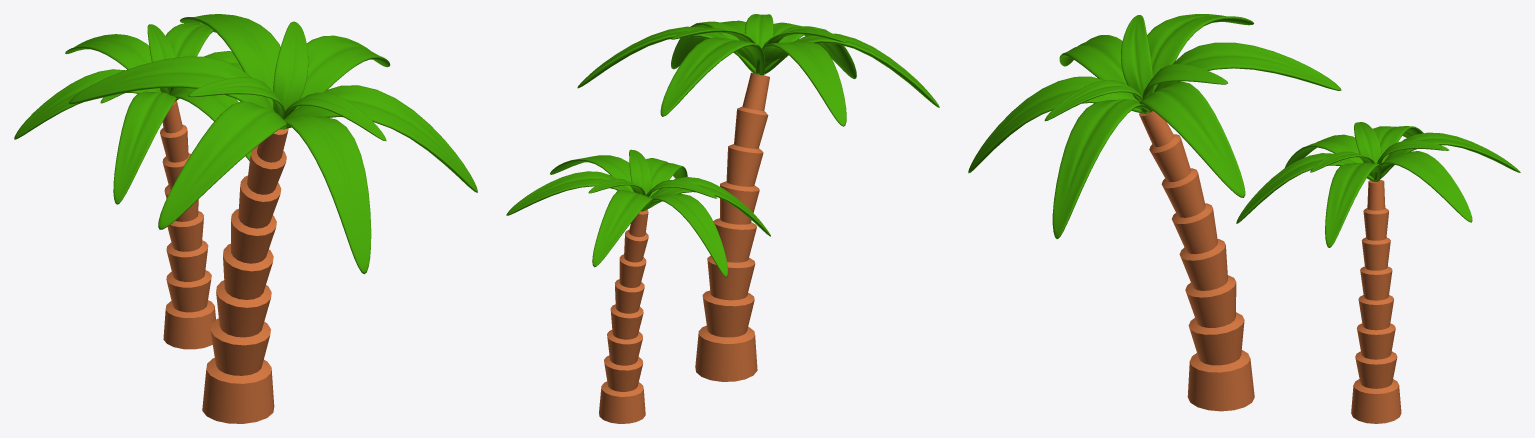
Rendered from palm-tree.fbx.
3 renders of one model, left to right at view 1: azimuth 30°, elevation 25°; view 2: azimuth 150°, elevation 25°; view 3: azimuth 270°, elevation 25°, orthographic. The views are drawn at different scales.
Parts seen in each view (by area): view 1: leaf-big, tree-big, leaf, tree; view 2: leaf-big, tree-big, leaf, tree; view 3: leaf-big, tree-big, leaf, tree.
Part boxes in pixels (x1,y1,x2,y2): leaf-big: (68, 14, 477, 274); tree-big: (202, 128, 288, 423); leaf: (14, 23, 250, 204); tree: (160, 100, 215, 349); leaf-big: (577, 14, 939, 126); tree-big: (695, 72, 769, 381); leaf: (506, 149, 770, 277); tree: (599, 209, 648, 423); leaf-big: (968, 14, 1341, 238); tree-big: (1139, 110, 1254, 411); leaf: (1236, 122, 1520, 247); tree: (1351, 180, 1401, 423).
Bounding box in the file's own units: 394 × 439 × 631.
